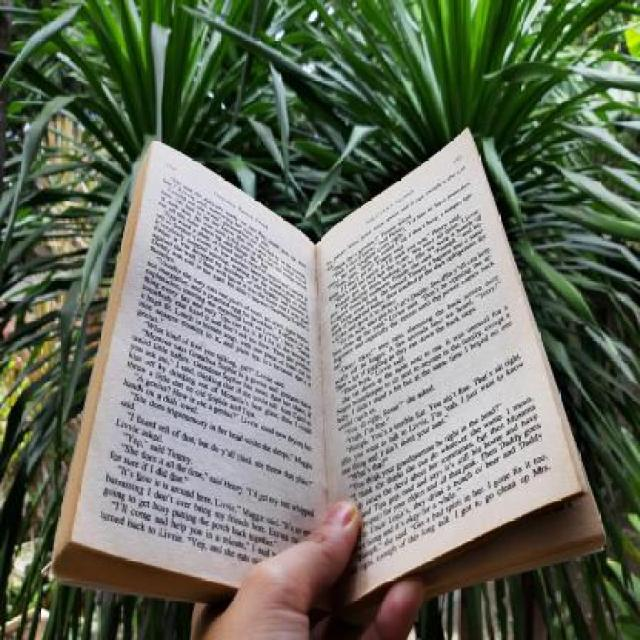book: (50, 109, 592, 640)
